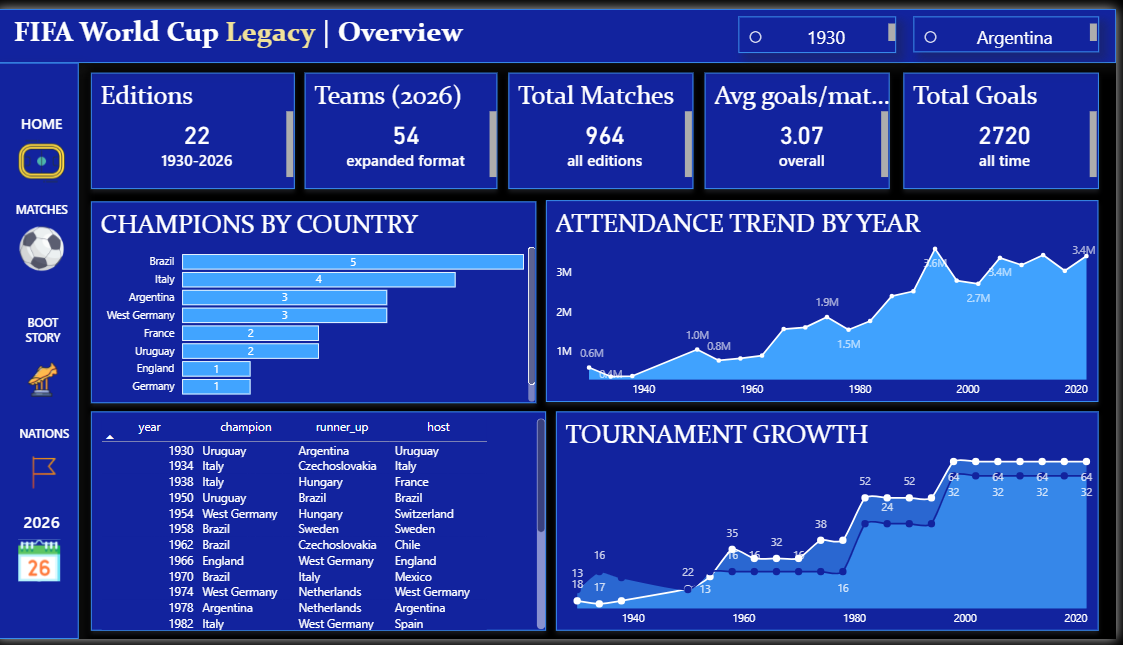

The page's visual inventory and layout, read from the dashboard file:
{"tool":"powerbi","page":{"name":"FIFA LEGACY","canvas":[1280,720],"ordinal":0},"visuals":[{"type":"cardVisual","title":"Editions","fields":{"Data":["CountNonNull(fifa_football editions.year)"]},"box":[108.6,72.9,232.9,132.9],"z":0},{"type":"cardVisual","title":"Total Matches","fields":{"Data":["Sum(fifa_football editions.matches)"]},"box":[586,72.9,211.4,132.9],"z":1000},{"type":"cardVisual","title":"Total Goals","fields":{"Data":["Sum(fifa_football editions.goals)"]},"box":[1037.1,72.9,222.9,132.9],"z":2000},{"type":"cardVisual","title":"Teams (2026)","fields":{"Data":["matches.Total Teams"]},"box":[352.9,72.9,220,132.9],"z":3000},{"type":"barChart","title":"CHAMPIONS BY COUNTRY","fields":{"Category":["fifa_football editions.champion"],"Y":["CountNonNull(fifa_football editions.edition)"]},"box":[108.6,220,508.6,230],"z":4000},{"type":"areaChart","title":"ATTENDANCE TREND BY YEAR","fields":{"Category":["fifa_football editions.year"],"Y":["Sum(fifa_football editions.attendance)"]},"box":[628.6,218.6,631.4,230],"z":5000},{"type":"lineChart","title":"TOURNAMENT GROWTH","fields":{"Y":["Sum(editions.matches)"],"Category":["editions.year"],"Y2":["Sum(editions.teams)"]},"box":[640,460,620,250],"z":6000},{"type":"tableEx","fields":{"Values":["editions.year","editions.champion","editions.runner_up","Sum(matches.Total Score)","editions.host"]},"box":[108.6,460,520,250],"z":7000},{"type":"cardVisual","title":"Avg goals/match","fields":{"Data":["Avg(editions.goals_per_match)"]},"box":[810,72.9,211.4,132.9],"z":8000},{"type":"textbox","box":[0,0,1280,61.4],"z":9000},{"type":"listSlicer","fields":{"Values":["matches.country"]},"box":[1048.3,8.9,211.8,40.9],"z":10000},{"type":"listSlicer","fields":{"Values":["editions.year"]},"box":[848.6,8.6,180,41.4],"z":11000},{"type":"shape","box":[0,61.4,94.3,658.6],"z":11001},{"type":"actionButton","title":"HOME","box":[21.4,120,61.4,85.7],"z":11002},{"type":"actionButton","title":"MATCHES","box":[21.4,220,61.4,85.7],"z":11003},{"type":"actionButton","title":"BOOT STORY","box":[22.9,348.6,61.4,100],"z":11004},{"type":"actionButton","title":"NATIONS","box":[24.3,475.7,61.4,85.7],"z":11005},{"type":"actionButton","title":"2026","box":[21.4,572.9,61.4,85.7],"z":11006}]}

Visuals, with their boxes in screenshot pixels (x1, y1, x2, y2), scaled from the page's 1280x720 canvas onto the 1123x645 screenshot:
"Editions" cardVisual: 95:65:300:184
"Total Matches" cardVisual: 514:65:700:184
"Total Goals" cardVisual: 910:65:1105:184
"Teams (2026)" cardVisual: 310:65:503:184
"CHAMPIONS BY COUNTRY" barChart: 95:197:541:403
"ATTENDANCE TREND BY YEAR" areaChart: 551:196:1105:402
"TOURNAMENT GROWTH" lineChart: 562:412:1105:636
tableEx - editions.year x editions.champion: 95:412:551:636
"Avg goals/match" cardVisual: 711:65:896:184
textbox: 0:0:1122:55
listSlicer - matches.country: 920:8:1106:45
listSlicer - editions.year: 745:8:902:45
shape: 0:55:83:644
"HOME" actionButton: 19:108:73:184
"MATCHES" actionButton: 19:197:73:274
"BOOT STORY" actionButton: 20:312:74:402
"NATIONS" actionButton: 21:426:75:503
"2026" actionButton: 19:513:73:590
